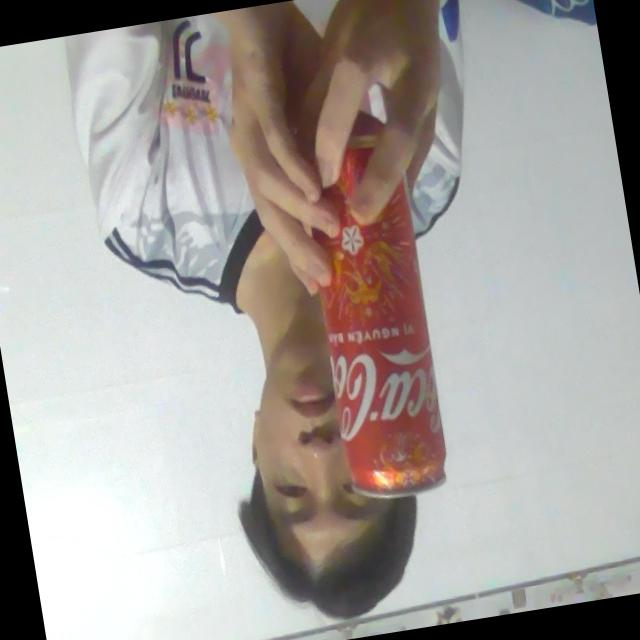cocacola: (277, 110, 474, 522)
